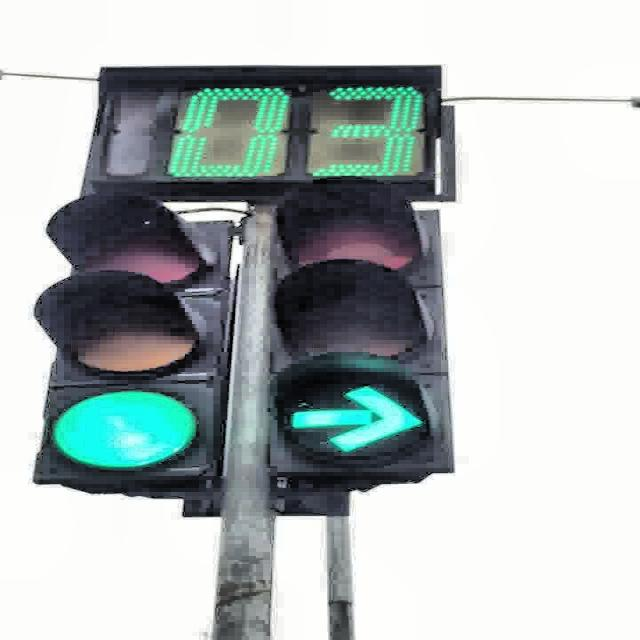green: (31, 190, 230, 484), (262, 180, 454, 475)
